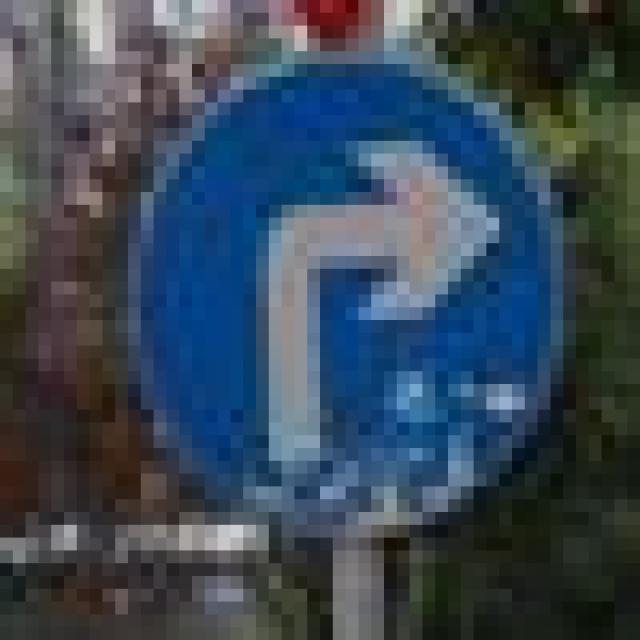railway_crossing: (102, 38, 550, 512)
